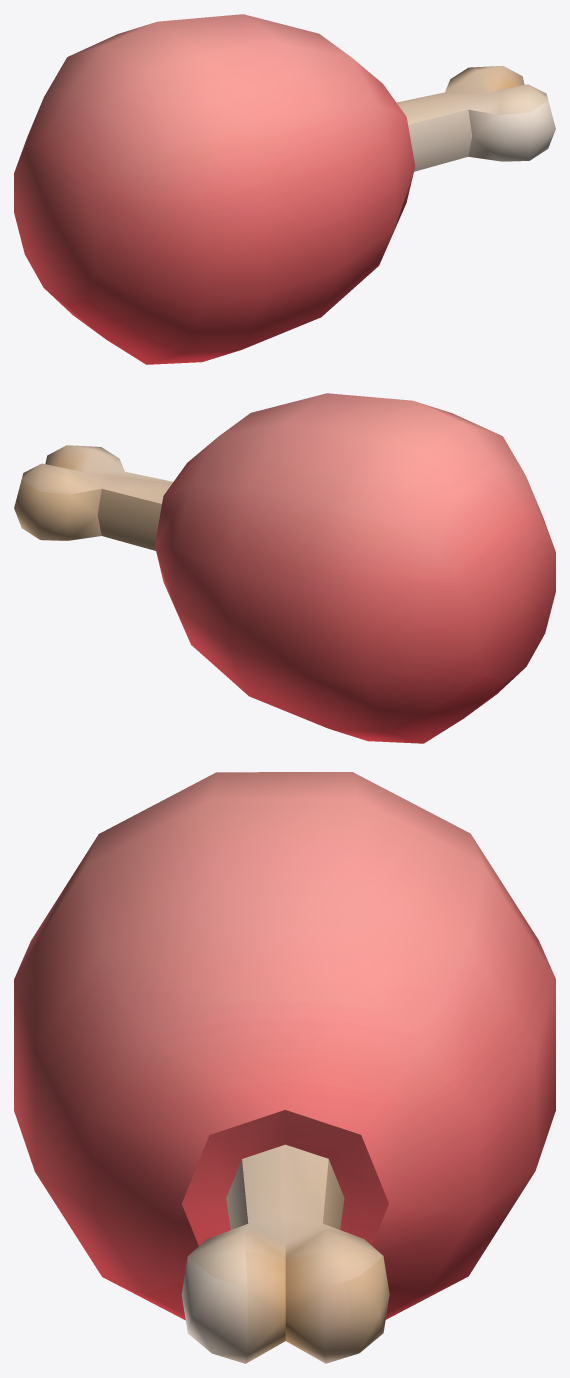
The model's file is skinka.glb.
3 renders of one model, top to bottom at view 1: azimuth 30°, elevation 25°; view 2: azimuth 150°, elevation 25°; view 3: azimuth 270°, elevation 25°, orthographic. The views are drawn at different scales.
Visible parts, largest first — view 1: food_ingredient_ham; view 2: food_ingredient_ham; view 3: food_ingredient_ham.
Part boxes in pixels (left/top/right/bottom): food_ingredient_ham: left=14, top=14, right=555, bottom=364; food_ingredient_ham: left=14, top=393, right=555, bottom=743; food_ingredient_ham: left=14, top=772, right=555, bottom=1363.
Size of the model in its own units: 1.39 by 0.83 by 0.83.
1 material, 1 textured.
